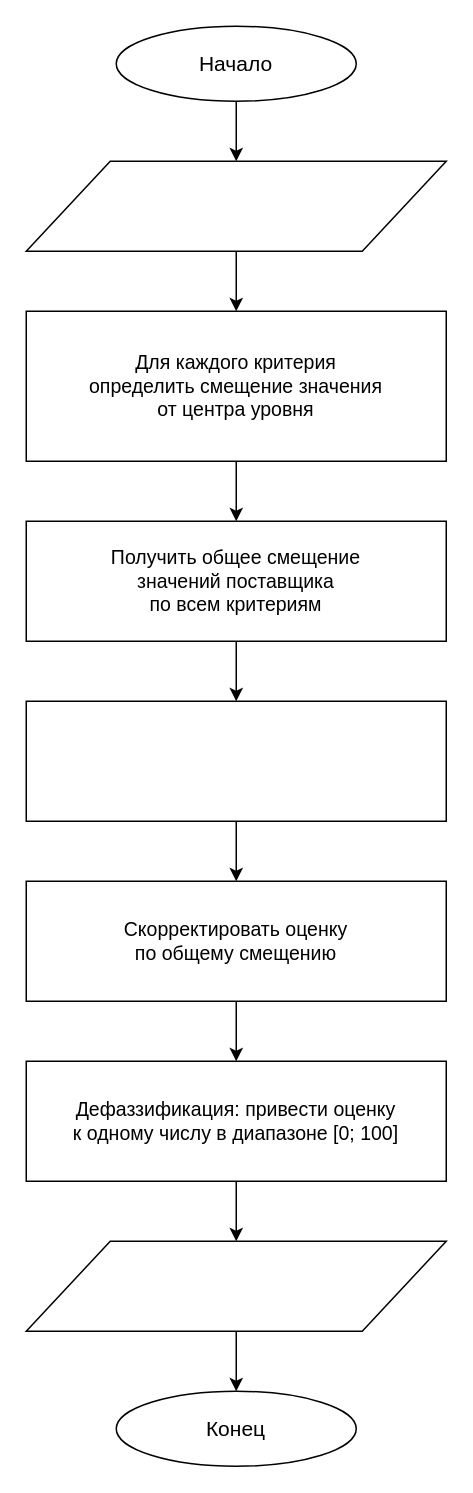
Some shapes in this 473 by 1493 pixel diagram are drawn without their labels. Here are the shapes that lost their labels. From the top down, the centre of each, then its label:
At point (235, 205): "Правило (или включение) базы знаний и последние значения трёх критериев".
At point (235, 760): "Определение оценки по заключению правила".
At point (235, 1285): "Числовая оценка".
